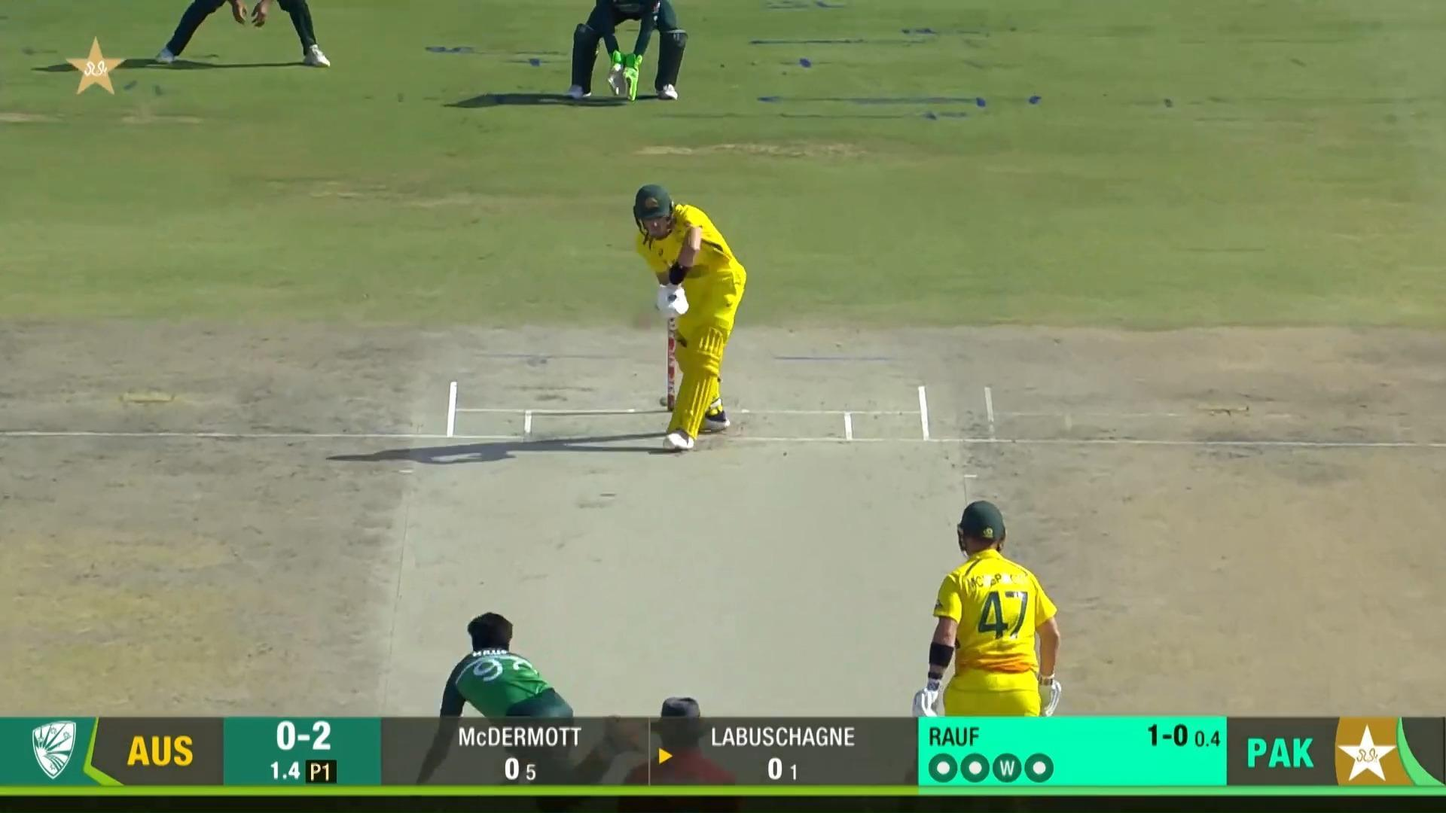BM 1: (628, 183, 748, 452)
BO: (415, 611, 650, 784)
